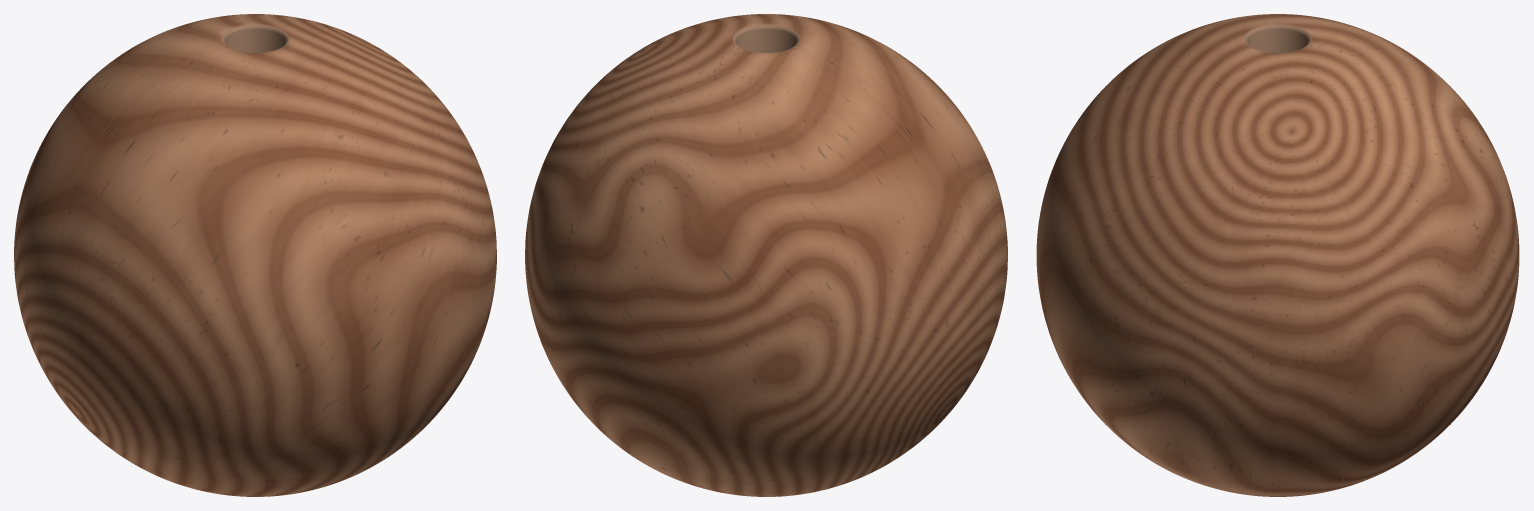
Rendered from yew-8mm.glb.
3 views of the same model, side by side, from view 1: azimuth 30°, elevation 25°; view 2: azimuth 150°, elevation 25°; view 3: azimuth 270°, elevation 25° (orthographic).
Visible parts, largest first — view 1: yew; view 2: yew; view 3: yew.
Boxes of the visible parts, box(x1,y1,x2,y2) form: yew: box(14, 14, 496, 496); yew: box(525, 14, 1007, 496); yew: box(1036, 14, 1519, 496).
Bounding box in the file's own units: 0.008 × 0.00792 × 0.008.
Materials: 2 (1 with a texture image).
